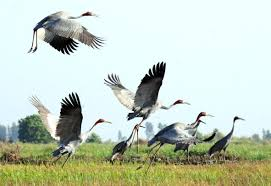seu_dau_do: (105, 63, 190, 144), (27, 93, 113, 165), (136, 109, 213, 173), (25, 10, 104, 56)
